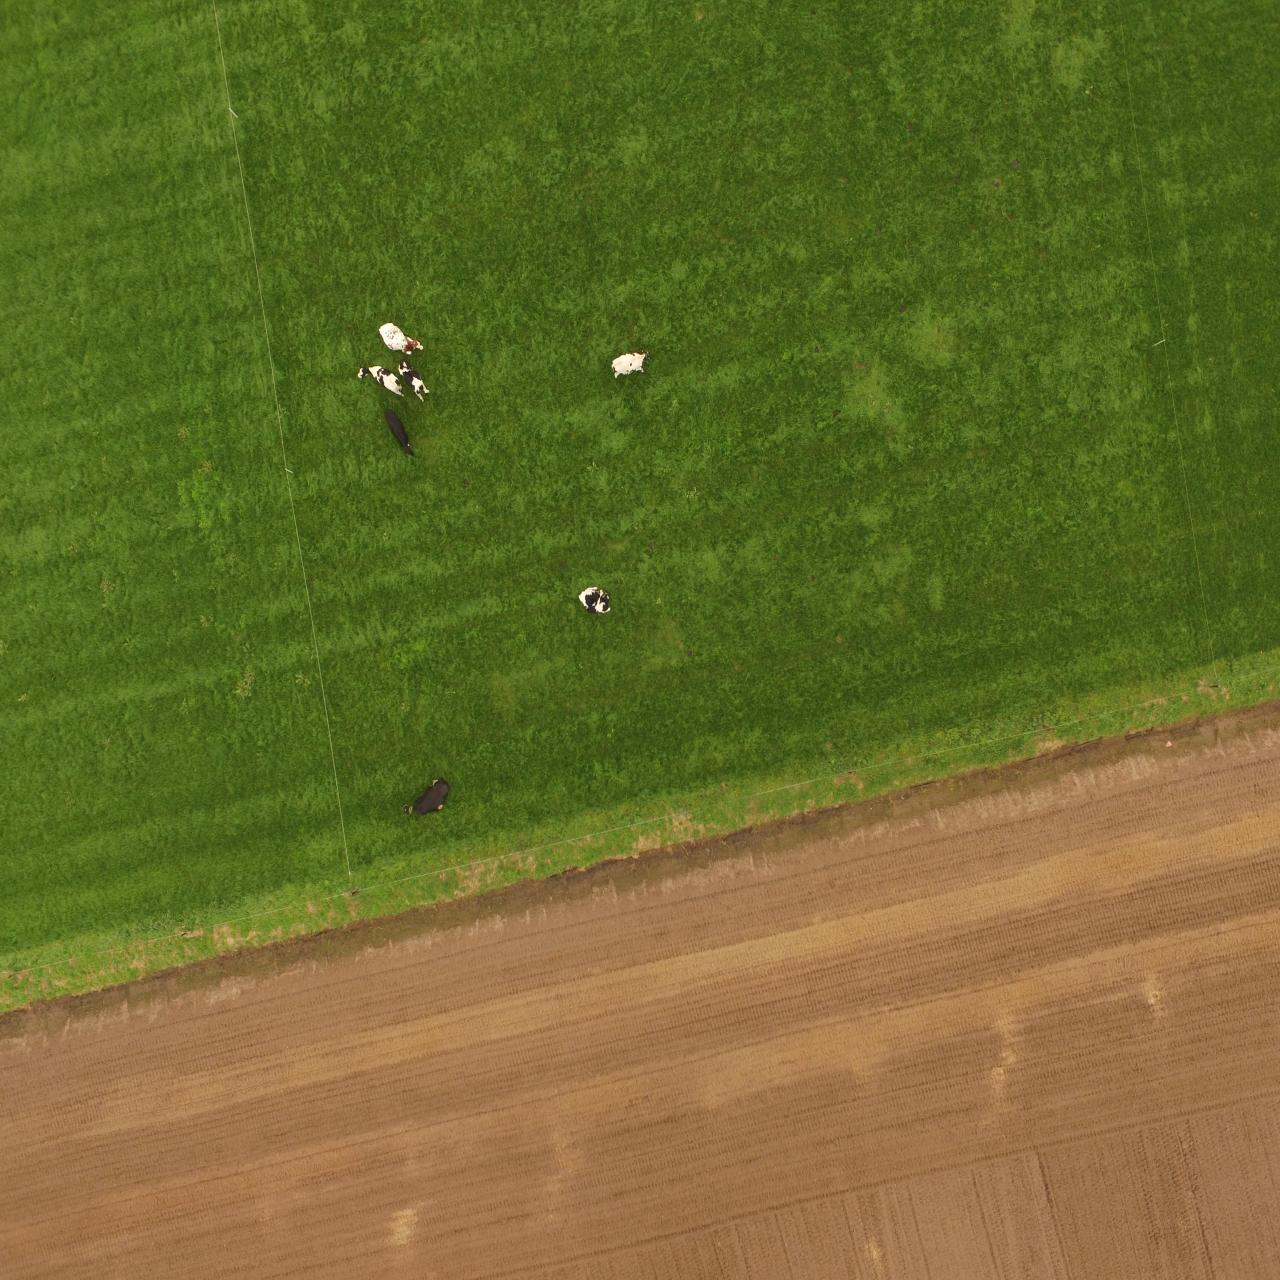cow: (382, 406, 422, 465), (402, 777, 451, 823), (395, 360, 440, 402), (354, 365, 409, 397), (375, 322, 429, 352), (577, 586, 614, 620), (610, 348, 648, 376)
